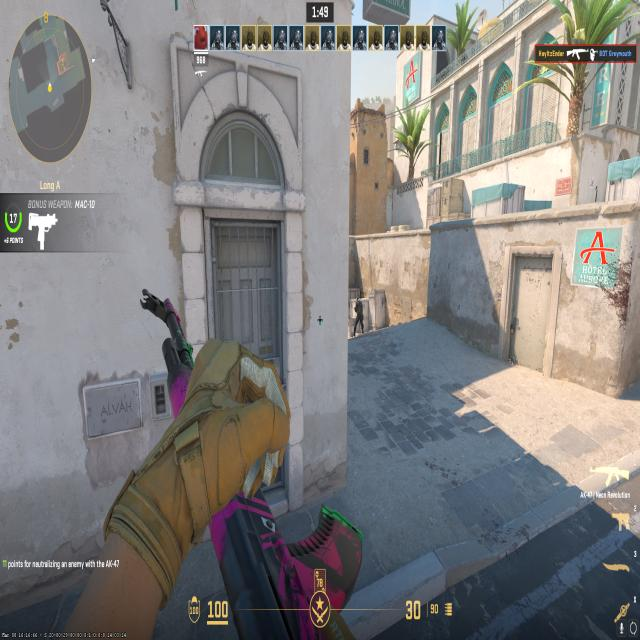ct: (350, 295, 368, 336)
